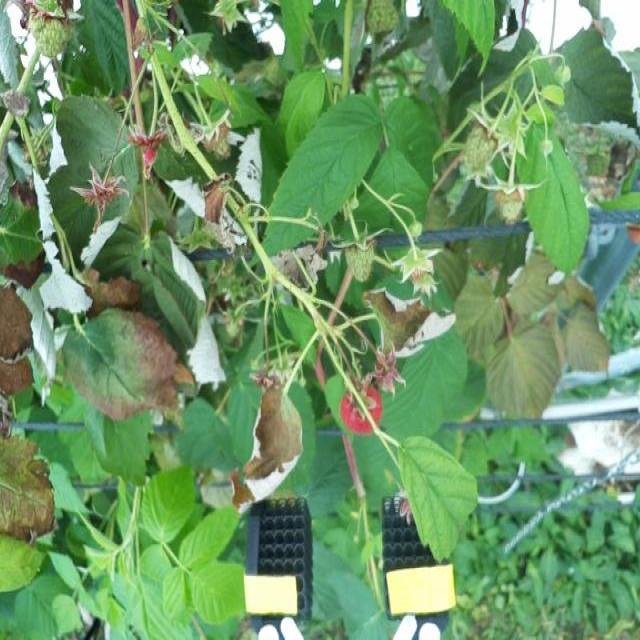Riped berries: (337, 377, 384, 436)
